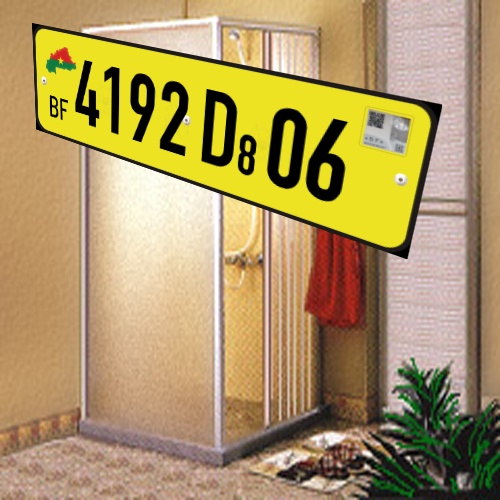plate: (21, 13, 445, 276)
